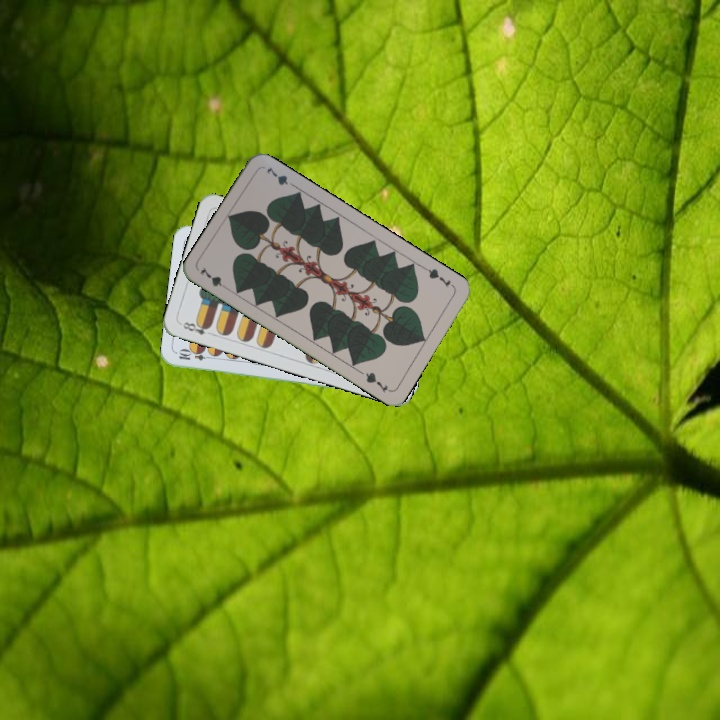E10: (175, 347, 215, 363)
E8: (179, 318, 216, 338)
G7: (196, 263, 232, 293), (420, 263, 457, 290)
